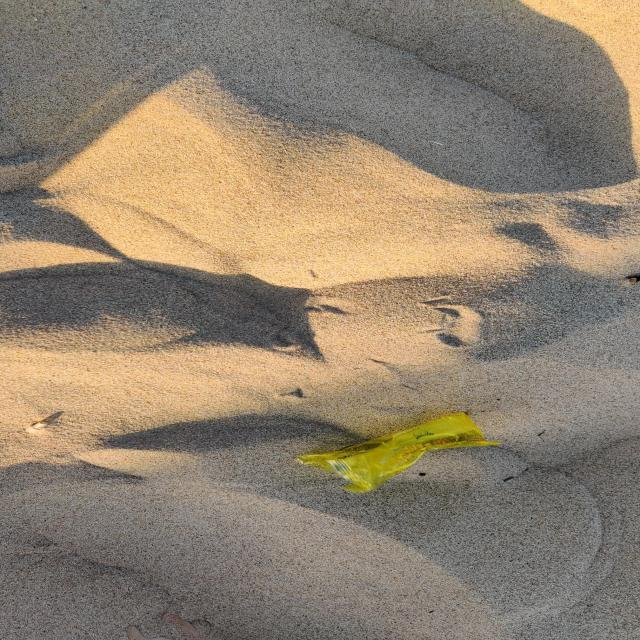Other plastic bottle: (26, 421, 48, 433)
Plastic film: (297, 412, 501, 493)
